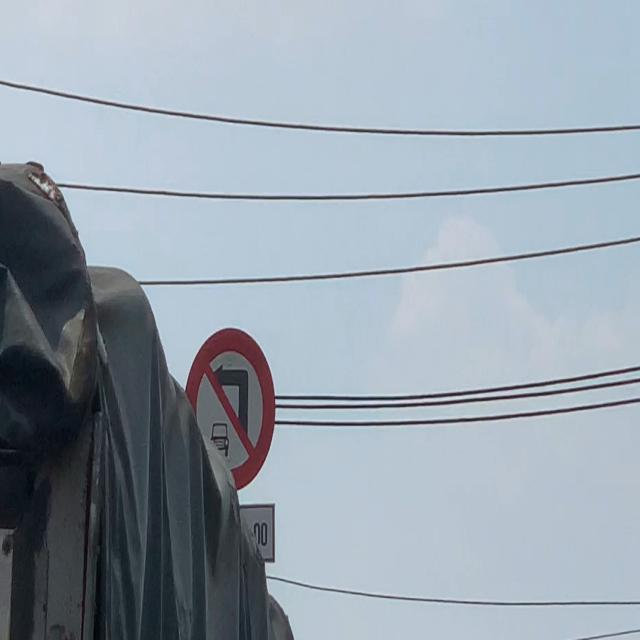Cam re trai: (181, 325, 276, 494)
